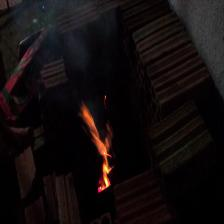fire: (80, 101, 117, 192)
